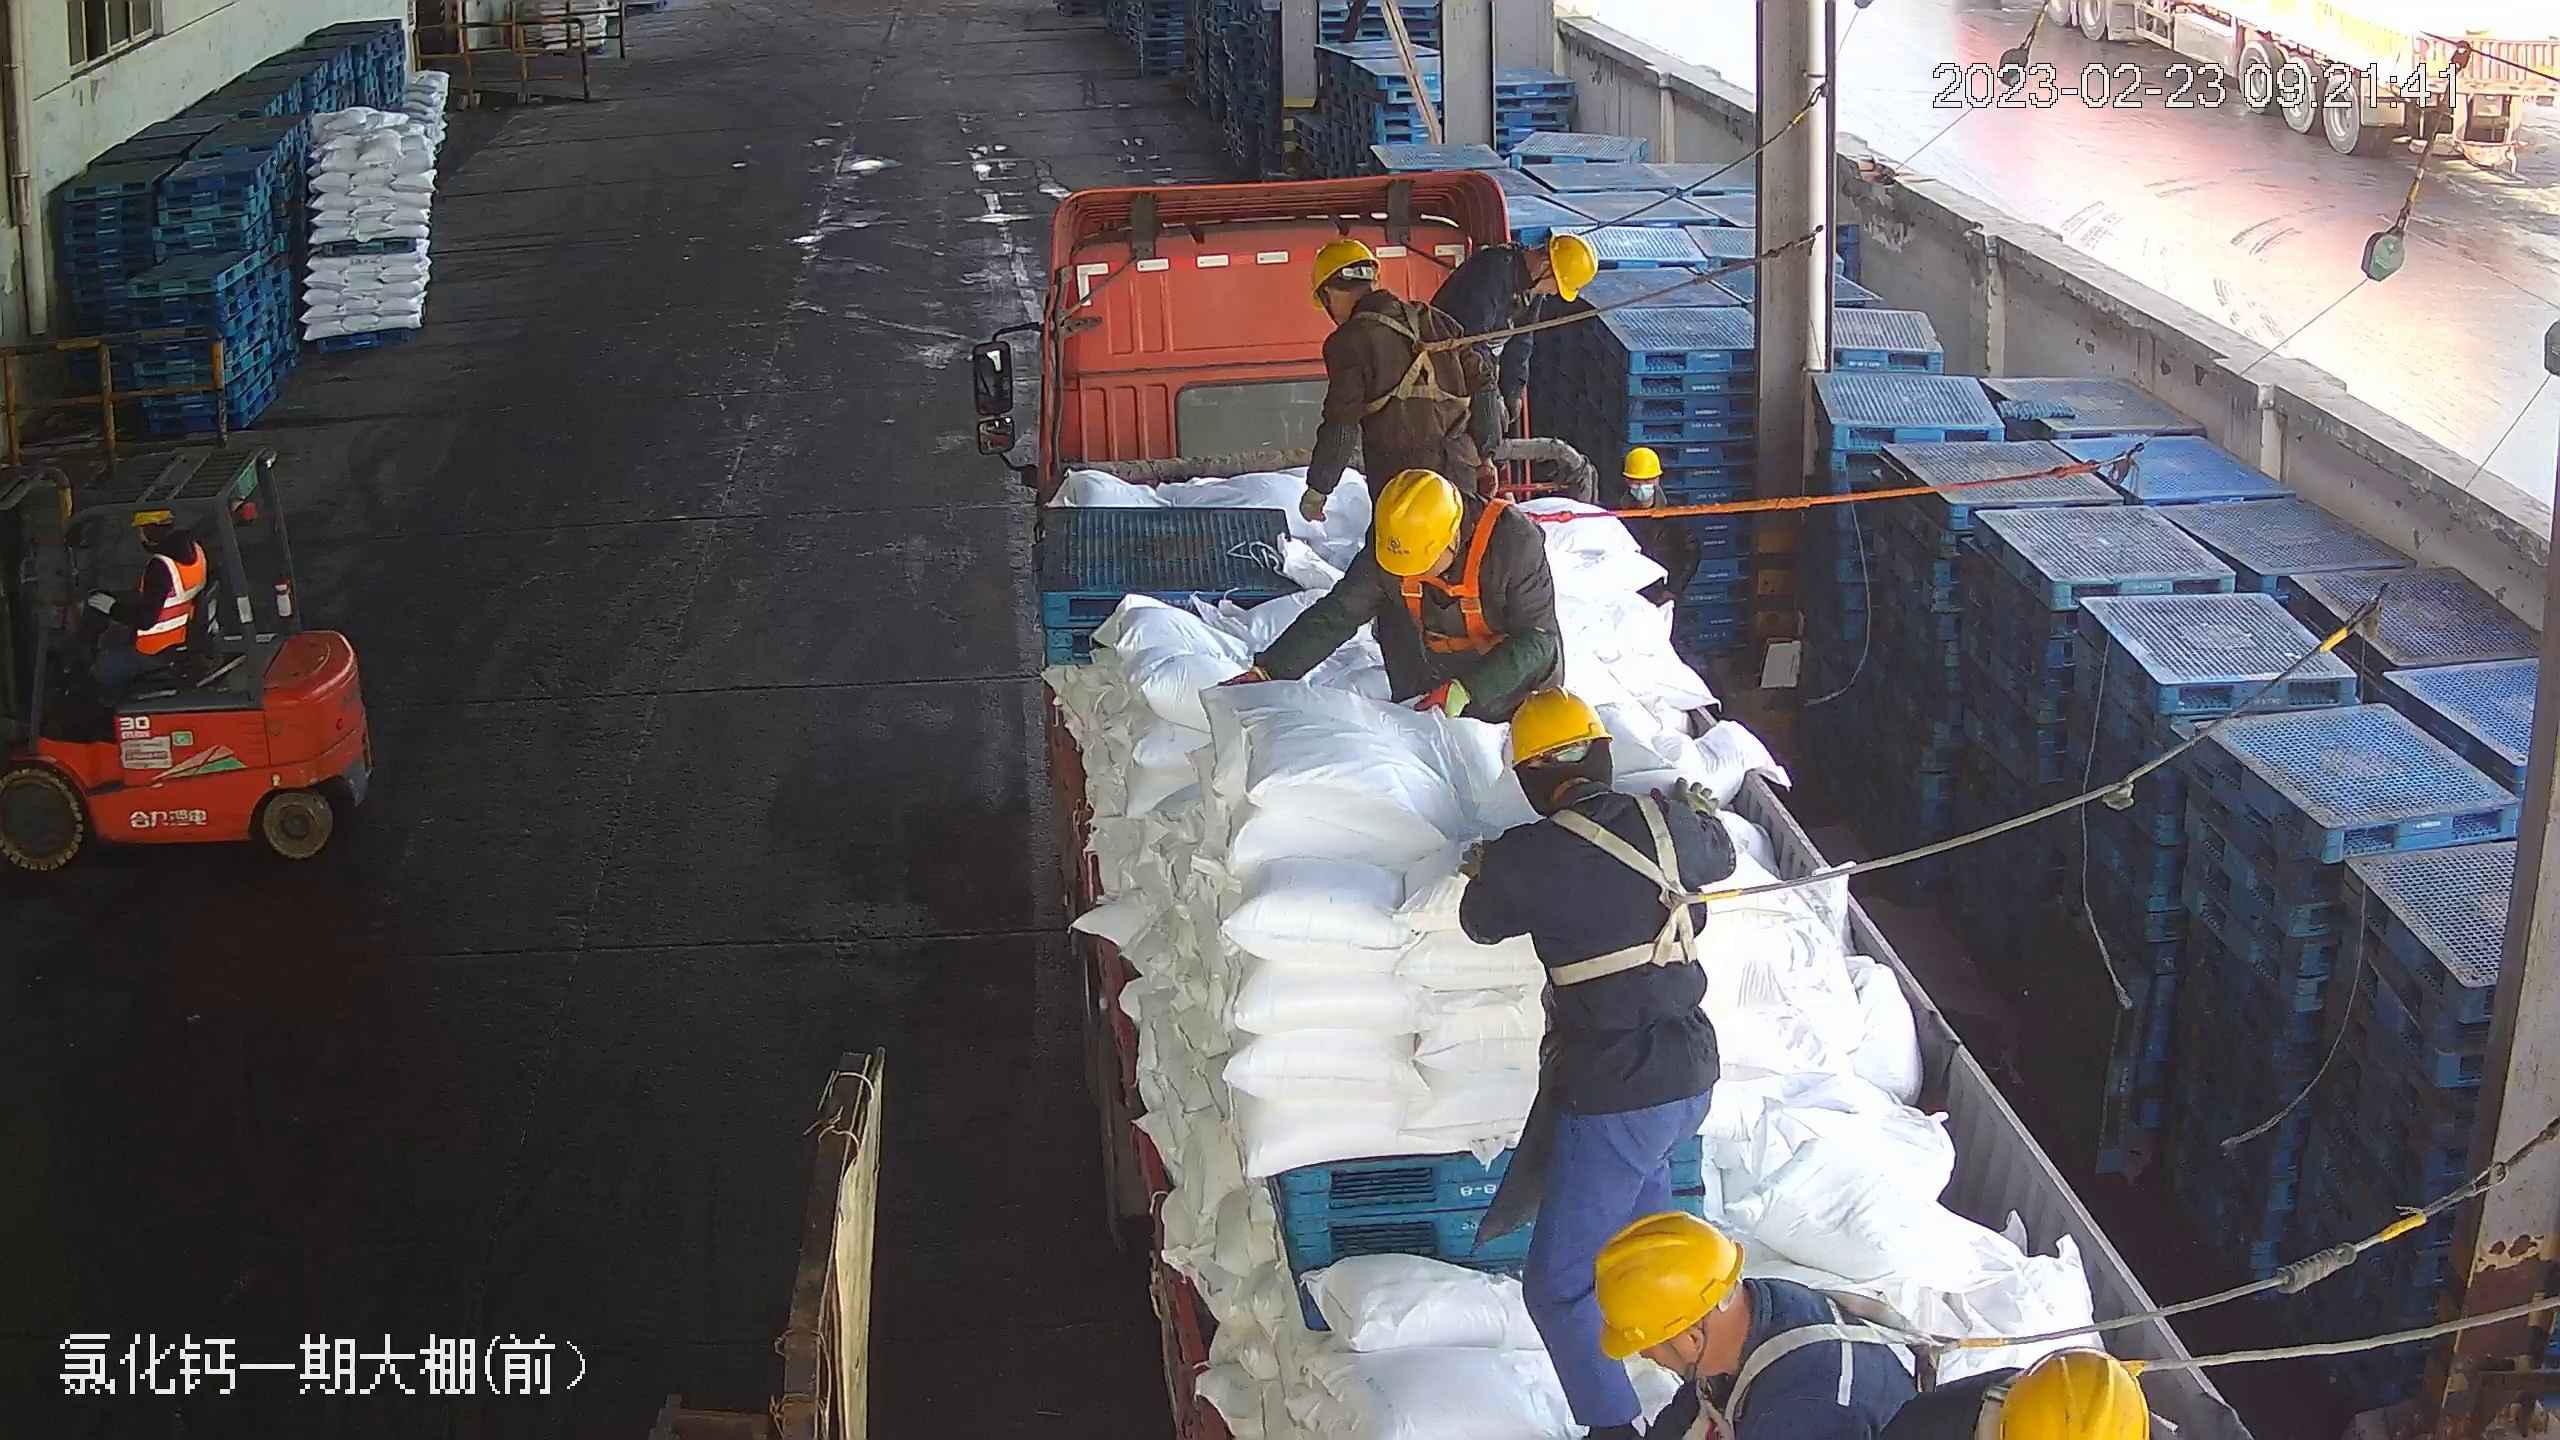belt: (1529, 775, 1709, 1002), (1724, 1276, 1985, 1424), (1383, 483, 1530, 663), (1363, 295, 1466, 414), (2118, 1351, 2227, 1384), (1977, 1359, 2021, 1440)
head: (1589, 1214, 1909, 1427), (1470, 683, 1726, 898), (1348, 467, 1547, 632), (1300, 236, 1469, 376), (1466, 228, 1597, 331), (1611, 440, 1695, 560), (126, 506, 205, 595)
helmet: (1590, 1209, 1744, 1358), (1992, 1342, 2151, 1439), (1365, 465, 1465, 578), (1499, 681, 1615, 765), (1299, 230, 1377, 303), (1543, 228, 1602, 303), (1617, 441, 1666, 480)
people: (1464, 671, 1728, 1438), (61, 501, 207, 706)
truck: (974, 166, 2268, 1434)
